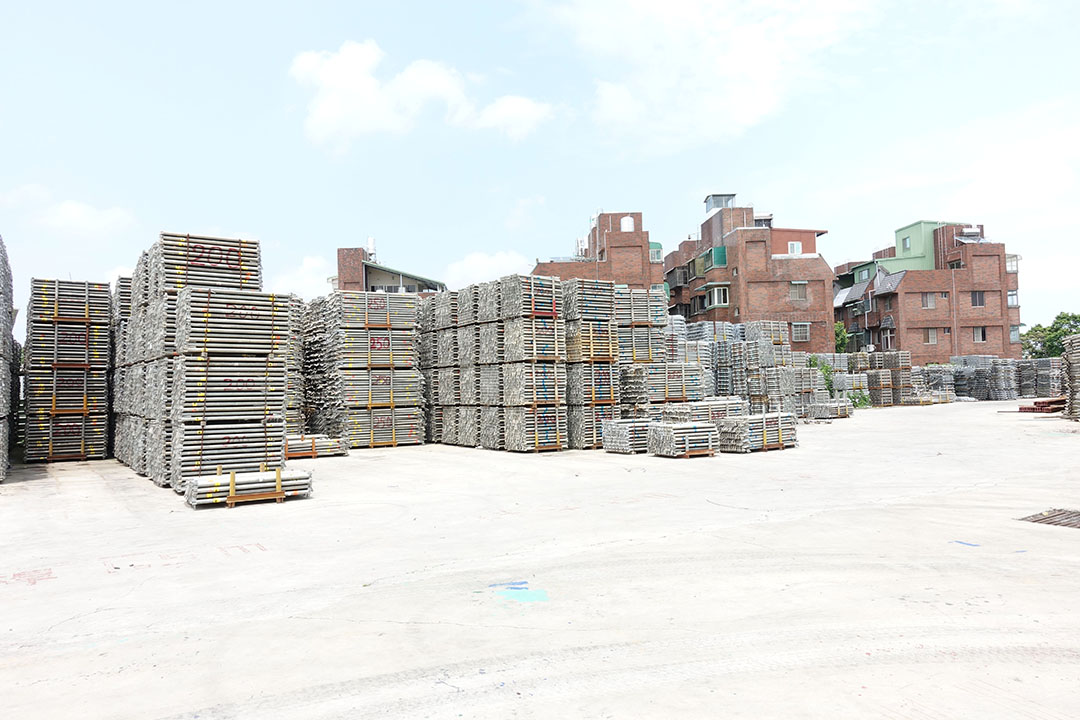building materials: (187, 286, 290, 356), (184, 356, 286, 424), (161, 230, 262, 292), (30, 276, 108, 326), (29, 324, 108, 372), (28, 372, 106, 417), (27, 418, 105, 461), (340, 289, 419, 331), (340, 330, 420, 370), (342, 370, 425, 408), (344, 409, 426, 447), (645, 361, 704, 401), (523, 318, 568, 363), (522, 363, 566, 408), (519, 274, 563, 318), (525, 409, 568, 451), (579, 364, 620, 407), (579, 320, 619, 364), (576, 277, 614, 320)
